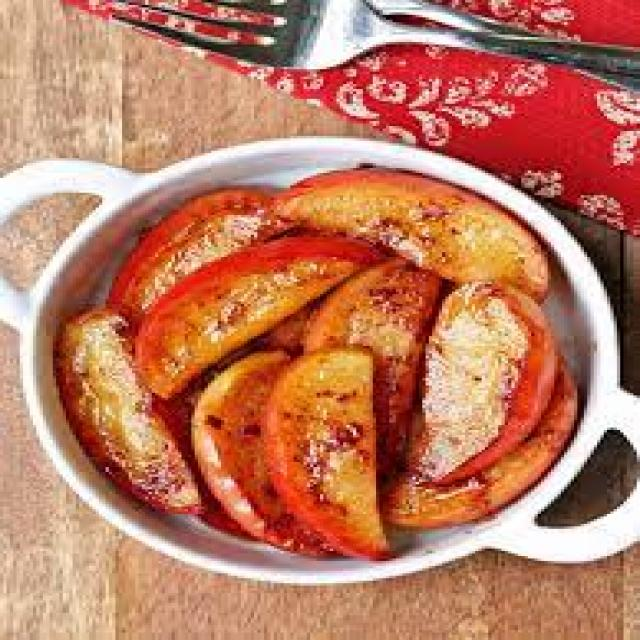Apple: (60, 309, 223, 521), (280, 164, 540, 291), (144, 247, 366, 395), (408, 280, 549, 478), (264, 344, 393, 559), (99, 182, 264, 303)
